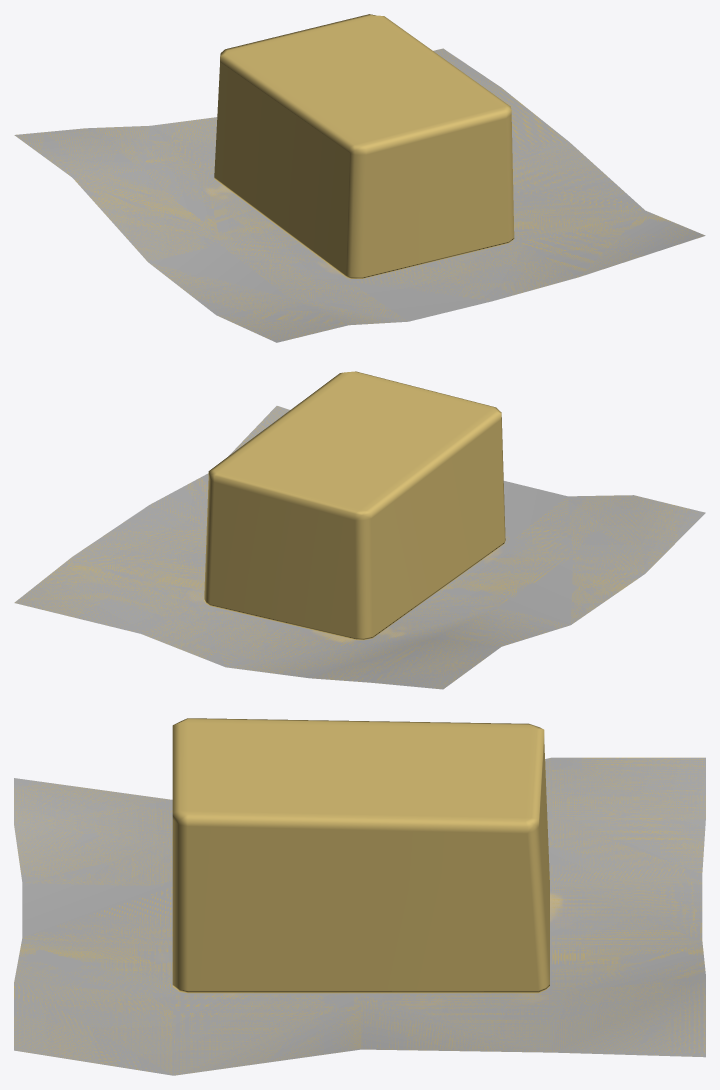
The model's file is pi_butter01.gltf.
3 views of the same model, one above another, from view 1: azimuth 30°, elevation 25°; view 2: azimuth 150°, elevation 25°; view 3: azimuth 270°, elevation 25° (orthographic). The views are drawn at different scales.
Visible parts, largest first — view 1: um_pi_butter01_model_pi_butter01_modelShape:pi_butter01_main; view 2: um_pi_butter01_model_pi_butter01_modelShape:pi_butter01_main; view 3: um_pi_butter01_model_pi_butter01_modelShape:pi_butter01_main.
Boxes of the visible parts, box(x1,y1,x2,y2) form: um_pi_butter01_model_pi_butter01_modelShape:pi_butter01_main: box(14, 14, 705, 342); um_pi_butter01_model_pi_butter01_modelShape:pi_butter01_main: box(14, 371, 705, 689); um_pi_butter01_model_pi_butter01_modelShape:pi_butter01_main: box(14, 718, 705, 1075).
Bounding box in the file's own units: 0.1215 × 0.036 × 0.1288.
Materials: 1 (1 with a texture image).
